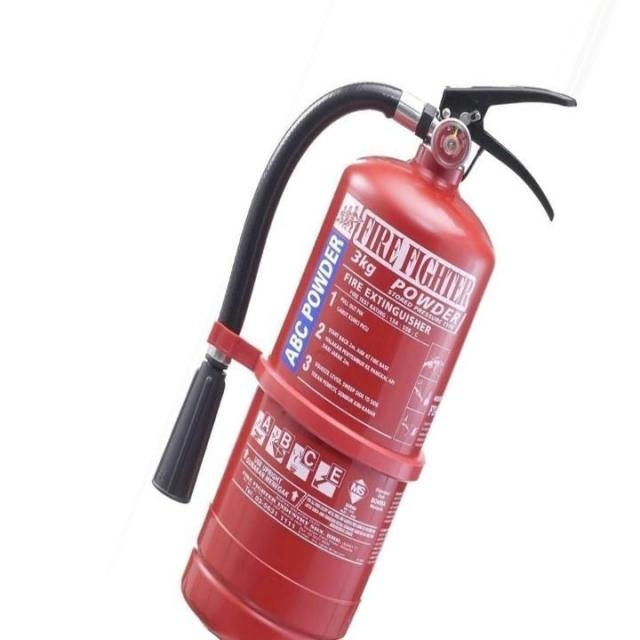fire_extinguisher: (144, 71, 581, 639)
